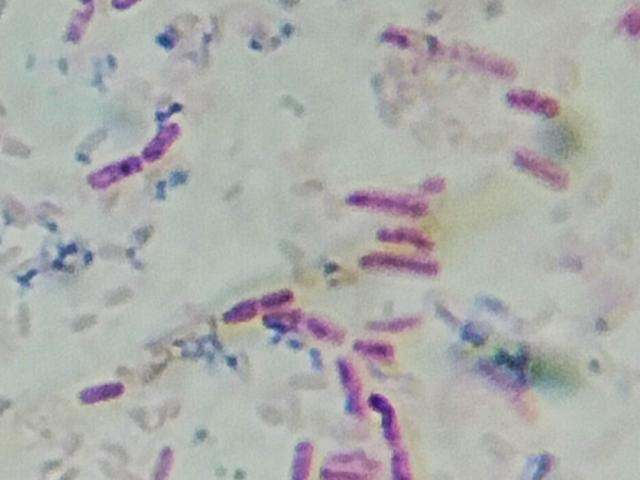E. coli: (379, 27, 530, 80), (376, 386, 419, 472), (346, 182, 438, 218), (355, 250, 454, 280), (88, 147, 140, 190), (513, 147, 566, 189), (501, 86, 564, 119), (265, 309, 337, 337), (373, 220, 441, 246), (152, 439, 195, 480), (325, 450, 384, 479), (76, 380, 137, 408), (146, 120, 187, 159), (64, 0, 99, 45), (282, 433, 317, 478), (336, 355, 360, 408), (358, 335, 402, 357), (219, 297, 255, 323), (255, 285, 296, 304), (111, 0, 146, 20)
